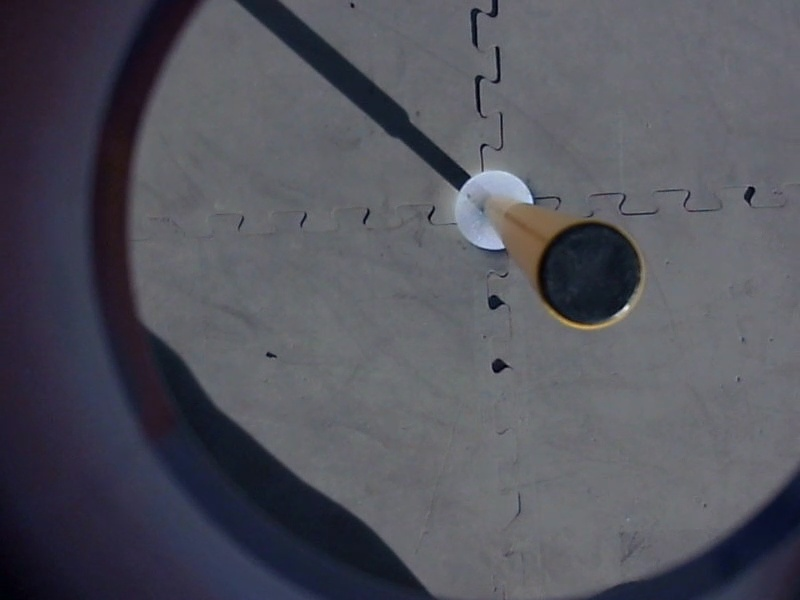tip: (528, 214, 650, 337)
